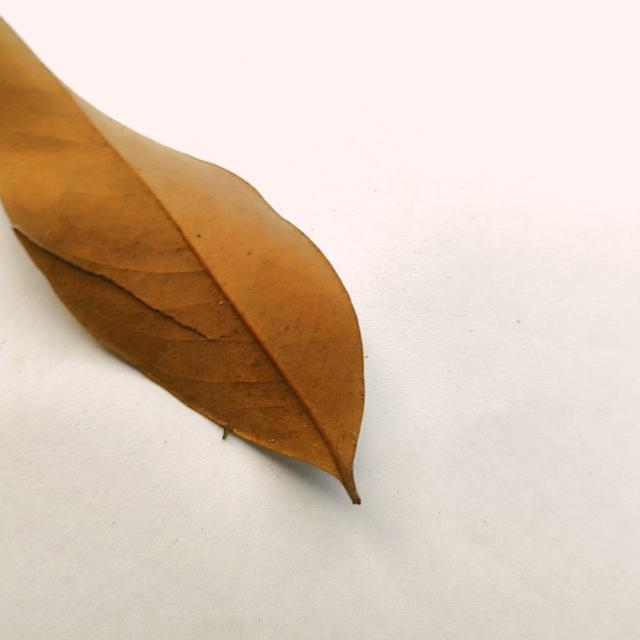Dry_Leaf-Lychee: (0, 16, 365, 506)
